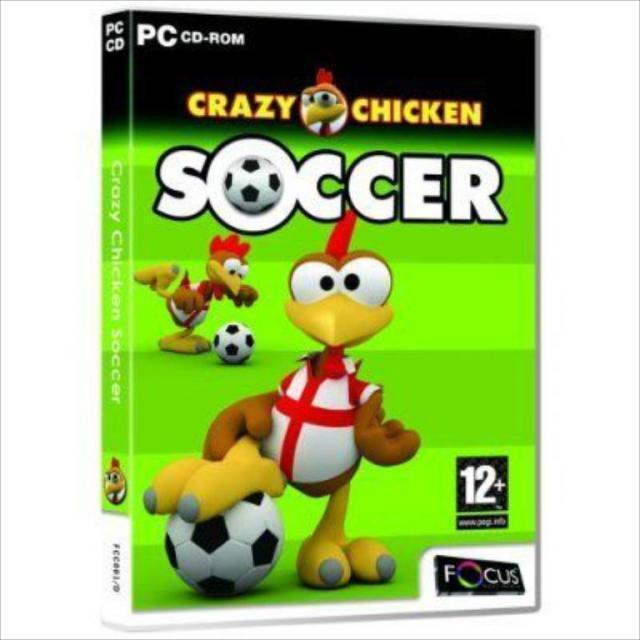ball: (162, 495, 282, 599)
